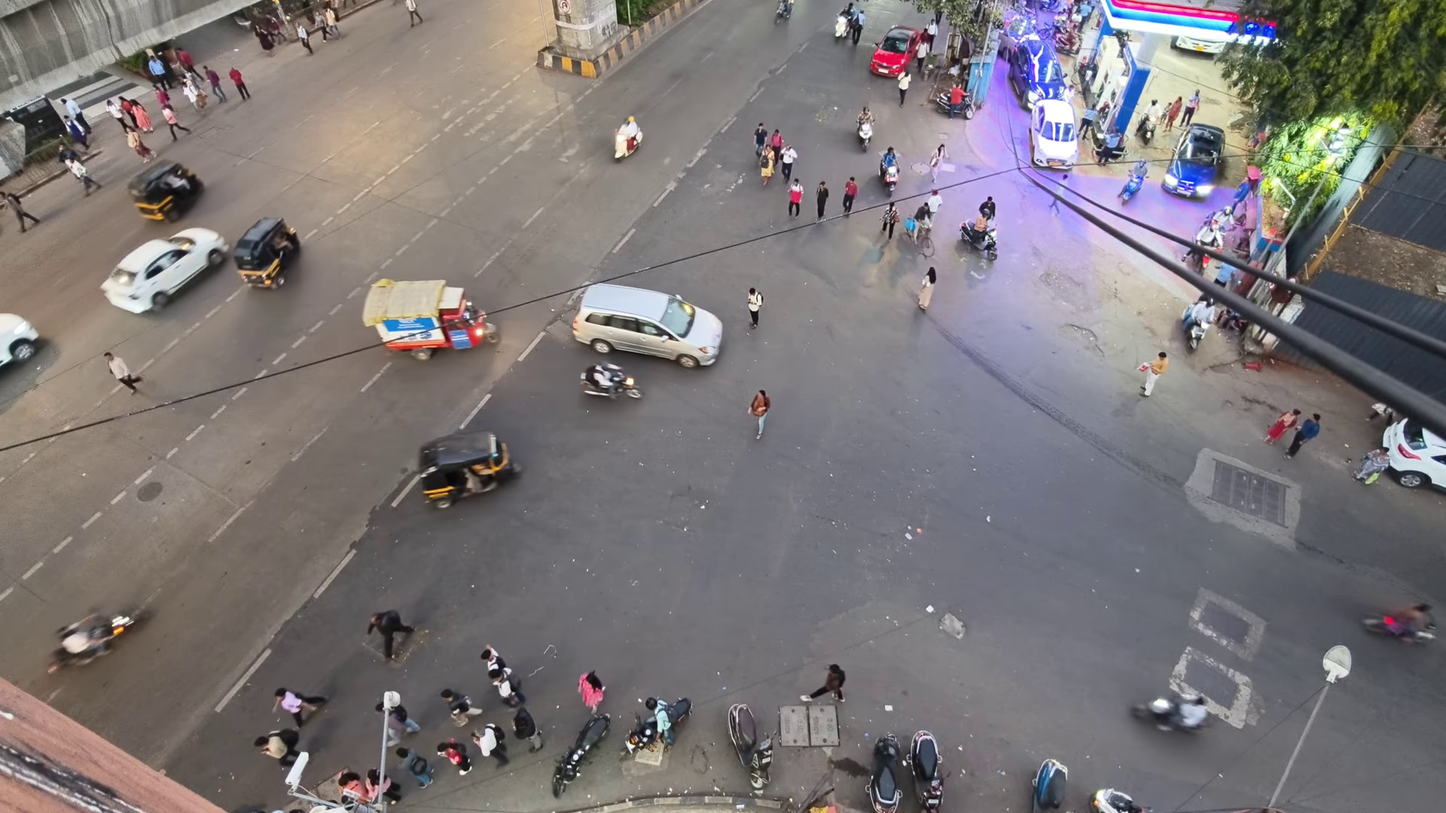walking: (367, 610, 413, 659), (273, 689, 327, 728), (376, 702, 419, 746), (254, 729, 300, 767), (800, 664, 845, 701), (472, 723, 508, 766), (1285, 413, 1320, 457), (394, 747, 432, 787), (441, 689, 482, 726), (488, 666, 524, 707), (3, 192, 39, 233), (645, 697, 675, 746), (513, 707, 542, 752), (365, 768, 401, 804), (1353, 448, 1389, 484), (66, 160, 101, 196), (438, 738, 471, 775), (1140, 351, 1167, 396), (1265, 410, 1301, 443), (578, 671, 605, 714), (61, 98, 91, 133), (749, 389, 770, 438), (162, 105, 191, 140), (147, 52, 171, 89), (203, 65, 226, 102), (63, 116, 87, 149), (918, 266, 936, 310), (105, 99, 130, 130), (175, 47, 200, 78), (130, 99, 153, 132), (881, 202, 900, 239), (1181, 90, 1200, 126), (182, 77, 202, 111), (480, 646, 506, 672), (929, 144, 947, 181), (842, 176, 859, 215), (229, 67, 249, 99), (1164, 96, 1182, 130), (747, 288, 762, 328), (760, 148, 775, 187), (253, 26, 273, 55), (296, 20, 313, 54), (780, 145, 797, 179), (323, 3, 340, 37), (119, 96, 138, 126), (914, 38, 929, 75), (851, 8, 865, 45), (789, 179, 803, 216), (816, 181, 829, 219), (404, 0, 423, 26), (898, 71, 911, 107), (754, 122, 767, 155), (926, 189, 942, 215), (979, 196, 996, 220), (924, 21, 938, 48), (768, 129, 783, 153), (154, 86, 170, 107)
